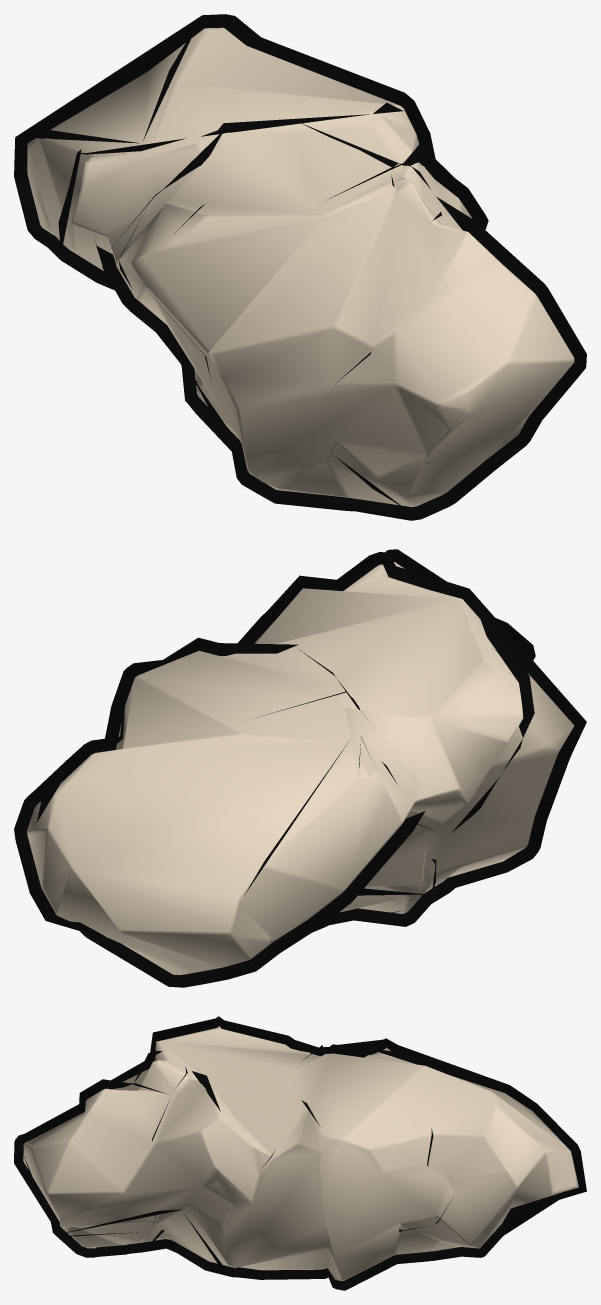
Rendered from env_big_rock_stone.glb.
3 views of the same model, one above another, from view 1: azimuth 30°, elevation 25°; view 2: azimuth 150°, elevation 25°; view 3: azimuth 270°, elevation 25° (orthographic). The views are drawn at different scales.
Parts seen in each view (by area): view 1: Cube; view 2: Cube; view 3: Cube.
Part boxes in pixels (box(x1,y1,x2,y2)): Cube: box(14, 14, 586, 520); Cube: box(14, 549, 586, 987); Cube: box(14, 1016, 586, 1290).
Bounding box in the file's own units: 0.7249 × 0.6172 × 1.4.
Materials: 2 (1 with a texture image).
